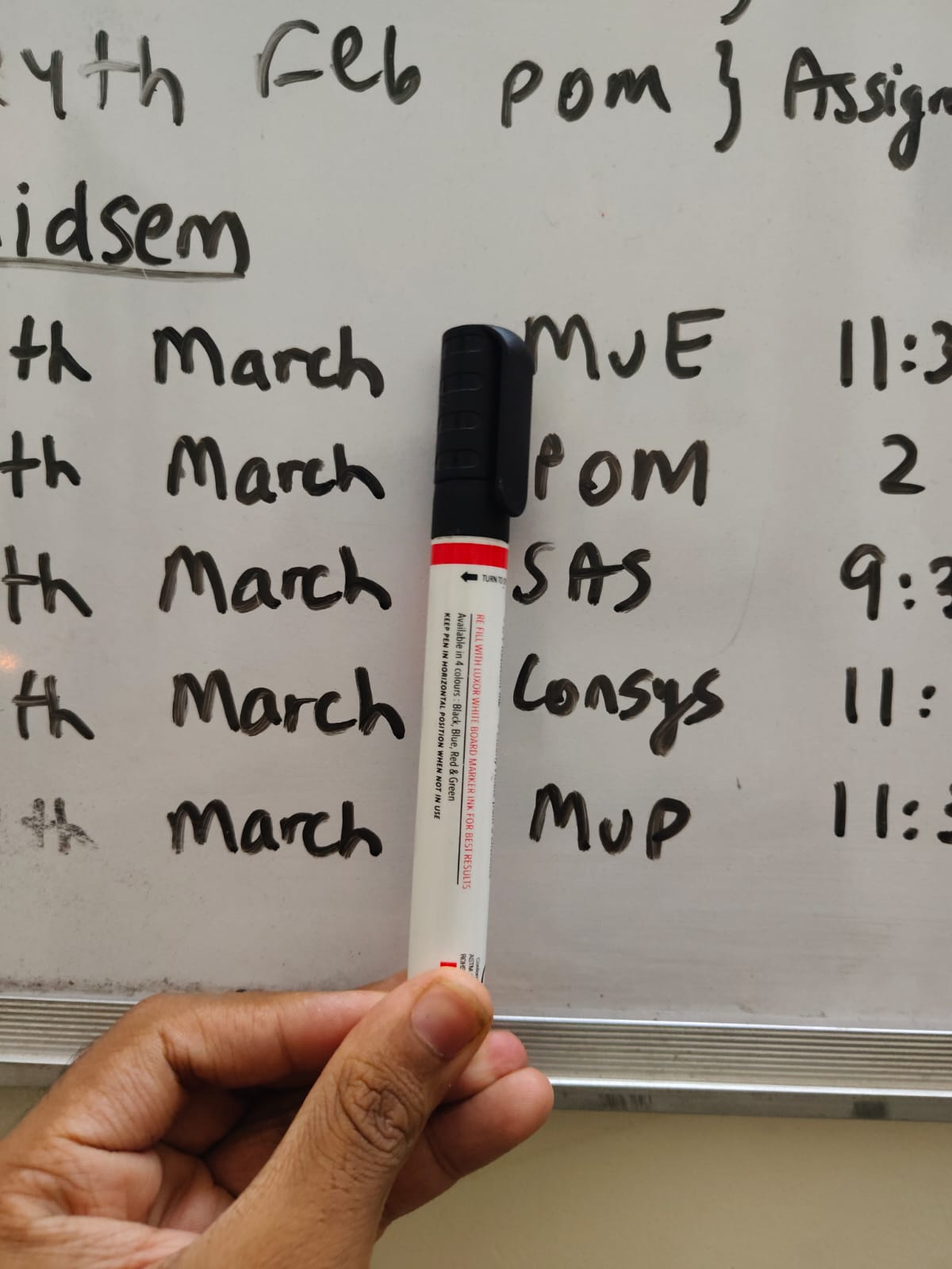case: (383, 286, 565, 1007)
